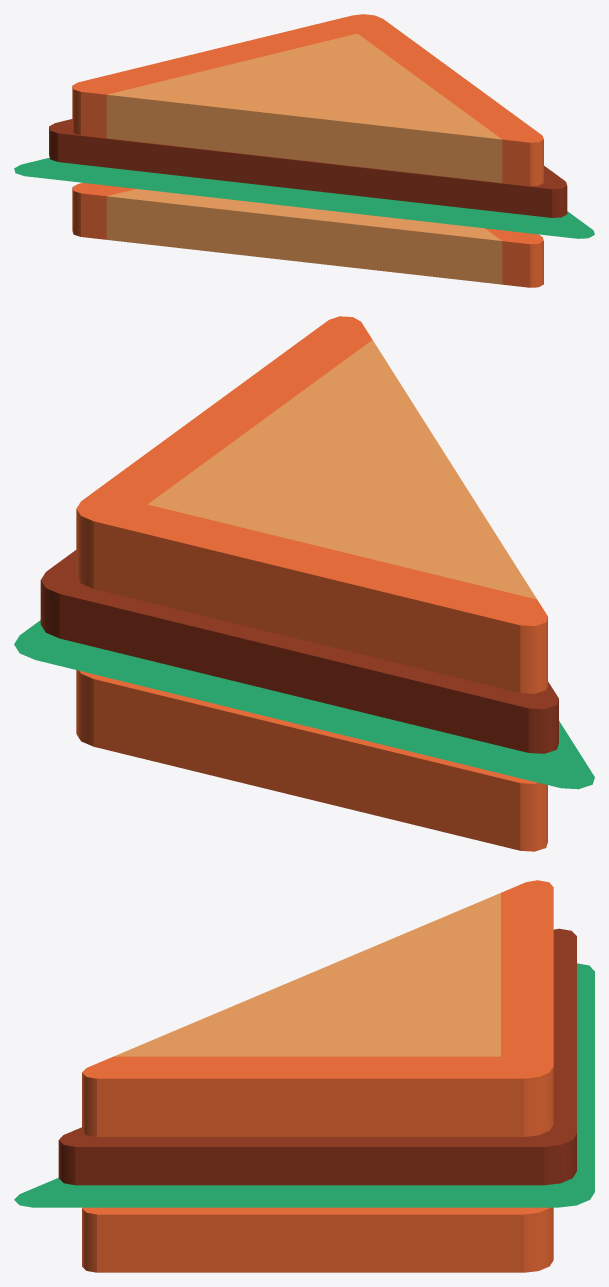
File: sandwich.fbx
3 renders of one model, top to bottom at view 1: azimuth 30°, elevation 25°; view 2: azimuth 150°, elevation 25°; view 3: azimuth 270°, elevation 25°, orthographic. The views are drawn at different scales.
Parts seen in each view (by area): view 1: sandwich, meat, lettuce; view 2: sandwich, meat, lettuce; view 3: sandwich, meat, lettuce.
Boxes of the visible parts, bbox=[...] form: sandwich: bbox=[72, 14, 543, 287]; meat: bbox=[49, 119, 567, 217]; lettuce: bbox=[14, 157, 594, 238]; sandwich: bbox=[76, 316, 547, 851]; meat: bbox=[40, 550, 558, 753]; lettuce: bbox=[14, 620, 594, 789]; sandwich: bbox=[82, 880, 553, 1272]; meat: bbox=[58, 928, 576, 1185]; lettuce: bbox=[14, 963, 594, 1207].
Bounding box in the file's own units: 0.4323 × 0.1598 × 0.4339.
